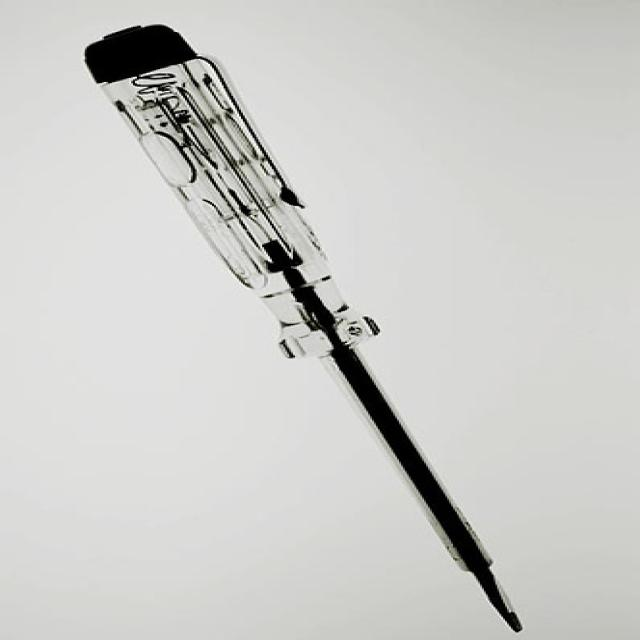screw_driver: (83, 26, 522, 632)
